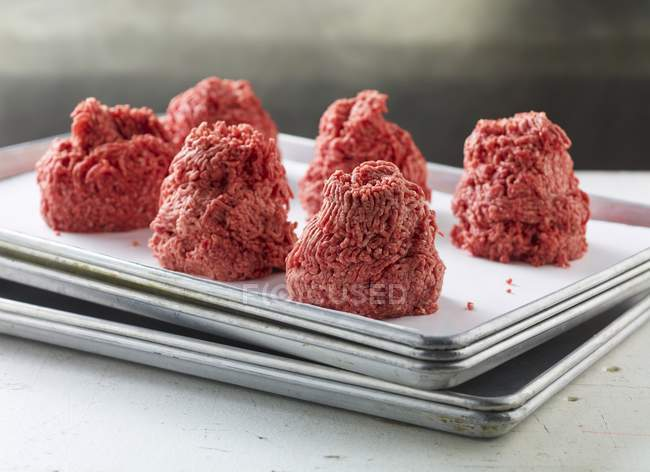ground_beef: (70, 88, 247, 283), (289, 148, 459, 300), (154, 124, 297, 294), (452, 104, 599, 265), (314, 87, 448, 226), (174, 65, 296, 198)
